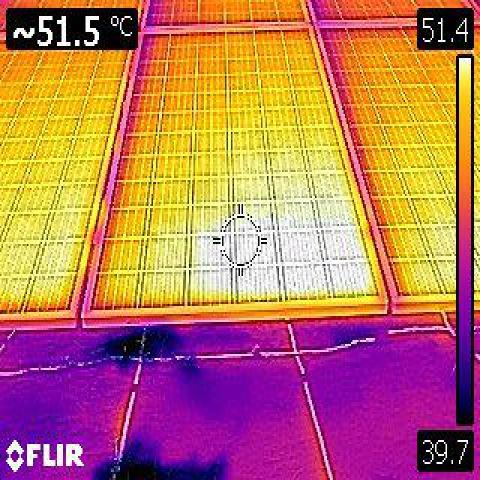fault: (271, 212, 369, 296)
